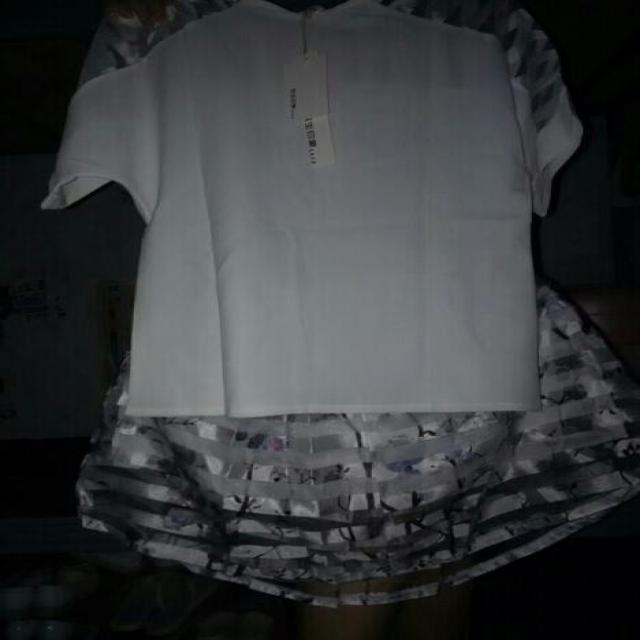short sleeve top: (45, 1, 540, 417)
skirt: (78, 268, 636, 604)
